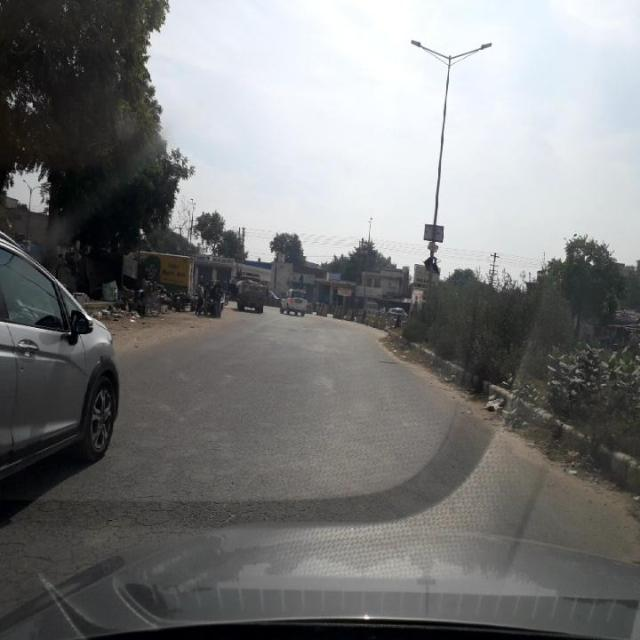D20: (0, 489, 286, 541)
